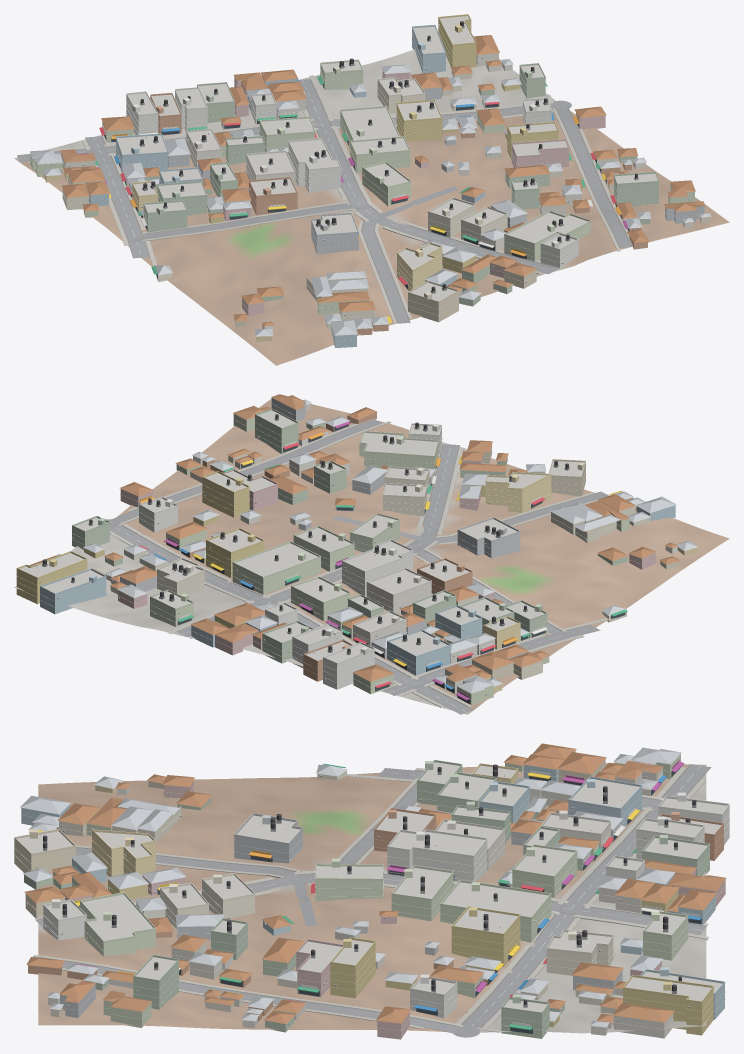
3 renders of one model, top to bottom at view 1: azimuth 30°, elevation 25°; view 2: azimuth 150°, elevation 25°; view 3: azimuth 270°, elevation 25°, orthographic. The views are drawn at different scales.
Visible parts, largest first — view 1: Buildings-col, Terrain-col, Details, Roads-col, Sidewalks-col; view 2: Buildings-col, Terrain-col, Details, Roads-col, Sidewalks-col; view 3: Buildings-col, Terrain-col, Details, Roads-col, Sidewalks-col.
Part boxes in pixels (box(x1,y1,x2,y2)): Buildings-col: box(30, 16, 711, 347); Terrain-col: box(14, 49, 729, 365); Details: box(30, 14, 704, 343); Roads-col: box(17, 79, 632, 323); Sidewalks-col: box(28, 75, 632, 323); Buildings-col: box(16, 394, 698, 705); Terrain-col: box(14, 398, 729, 714); Details: box(16, 403, 675, 703); Roads-col: box(106, 419, 608, 714); Sidewalks-col: box(110, 418, 621, 707); Buildings-col: box(14, 743, 729, 1039); Terrain-col: box(38, 763, 706, 1033); Details: box(14, 759, 729, 1033); Roads-col: box(35, 764, 710, 1037); Sidewalks-col: box(33, 767, 709, 1032).
Bounding box in the file's own units: 271 × 31.64 × 274.
